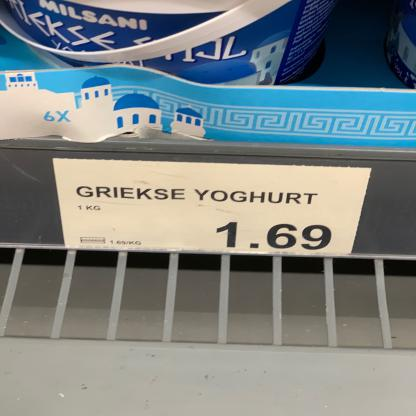prtg: (53, 159, 373, 257)
